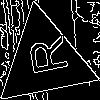R: (19, 34, 68, 79)
